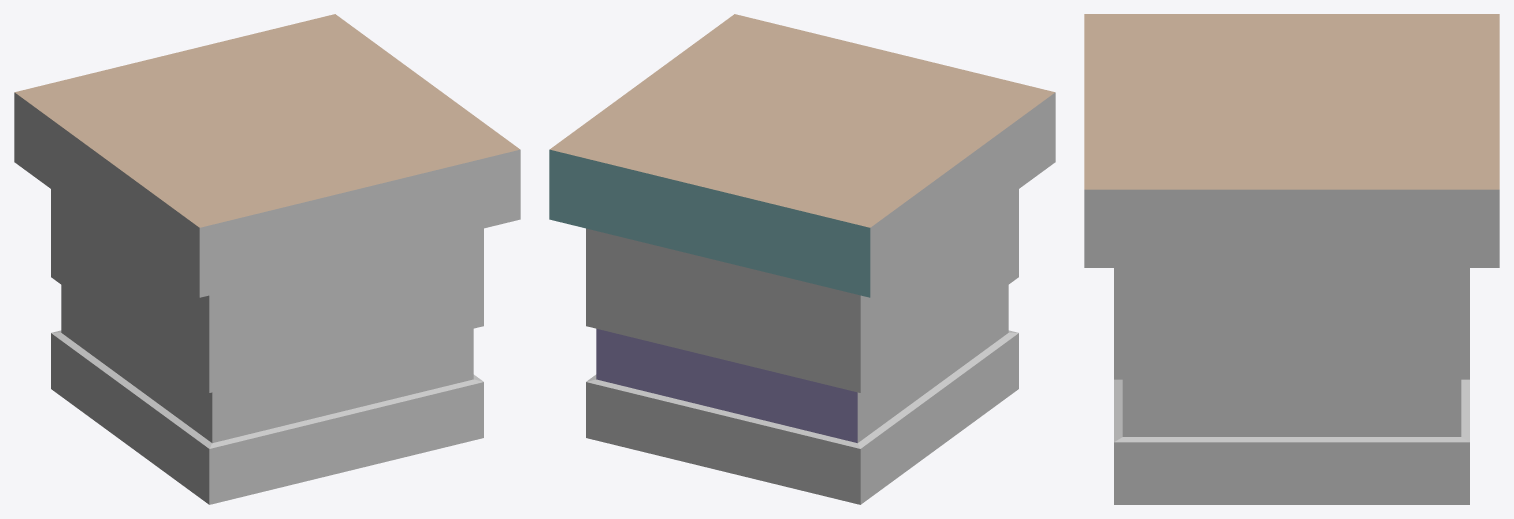
The model's file is PlatformColorsMedium.fbx.
3 renders of one model, left to right at view 1: azimuth 30°, elevation 25°; view 2: azimuth 150°, elevation 25°; view 3: azimuth 270°, elevation 25°, orthographic. The views are drawn at different scales.
Visible parts, largest first — view 1: PlatformColorsMedium; view 2: PlatformColorsMedium; view 3: PlatformColorsMedium.
Boxes of the visible parts, <box> form: PlatformColorsMedium: <box>14,14,520,504</box>; PlatformColorsMedium: <box>549,14,1055,504</box>; PlatformColorsMedium: <box>1084,14,1499,504</box>.
Bounding box in the file's own units: 2.34 × 2.03 × 2.34.
